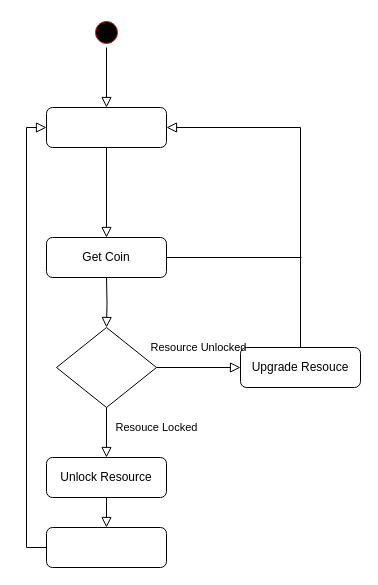
The diagram is 378 pixels wide and 585 high, and some of its shapes have lost their labels. Each missing label, with the centre of its shape:
"Get Achievement" goes at point (106, 547).
"Tap" goes at point (106, 127).
